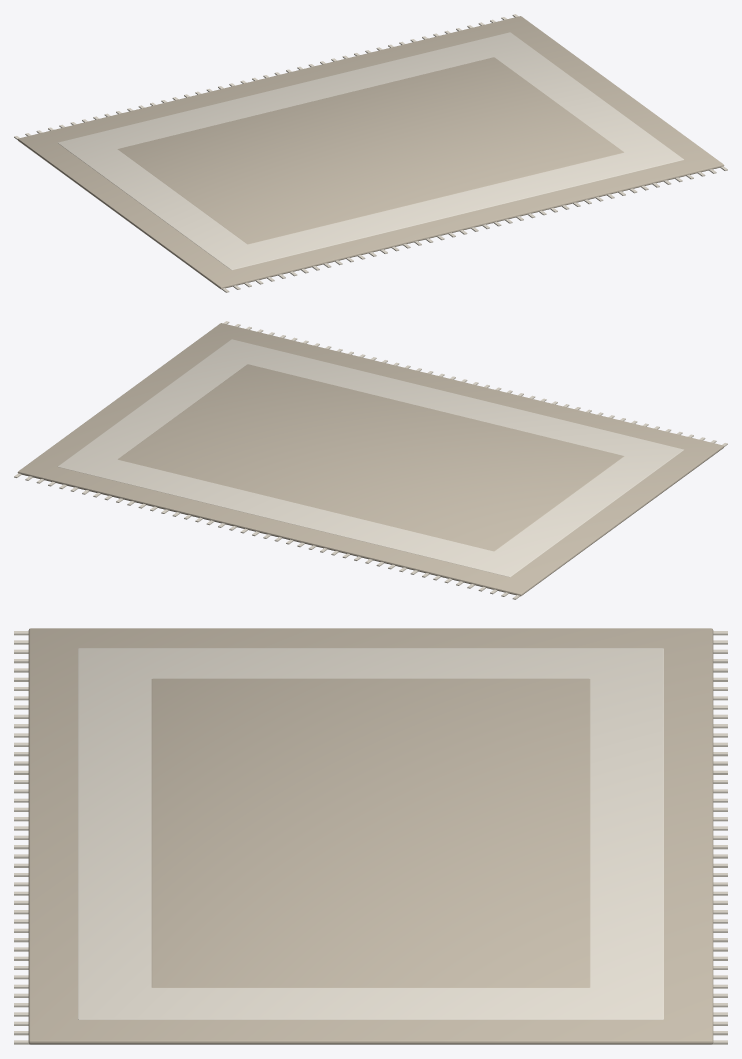
Rendered from tapete.glb.
The picture shows the model from 3 angles, top to bottom: view 1: azimuth 30°, elevation 25°; view 2: azimuth 150°, elevation 25°; view 3: azimuth 270°, elevation 25°; orthographic projection. The views are drawn at different scales.
Parts seen in each view (by area): view 1: p; view 2: p; view 3: p.
Boxes of the visible parts, x1,y1,x2,y2 form: p: (14,14,727,292); p: (14,321,727,599); p: (14,628,727,1044).
Bounding box in the file's own units: 2 × 0.013 × 1.46.
